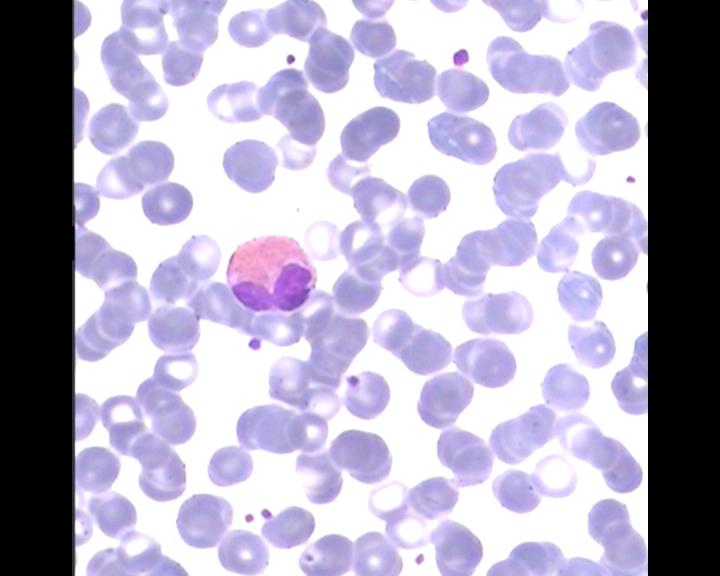eosi: (219, 233, 320, 316)
